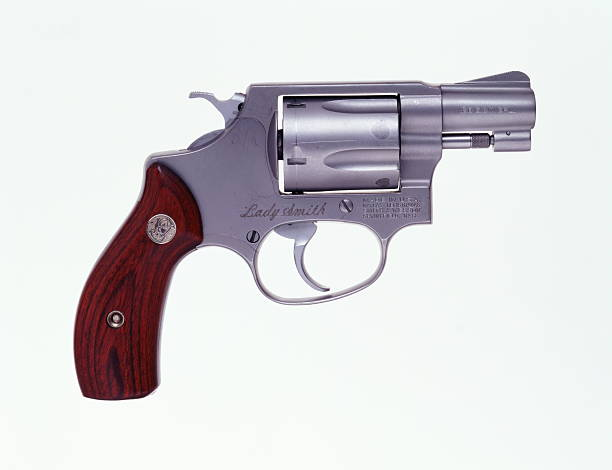pistol: (63, 63, 546, 411)
